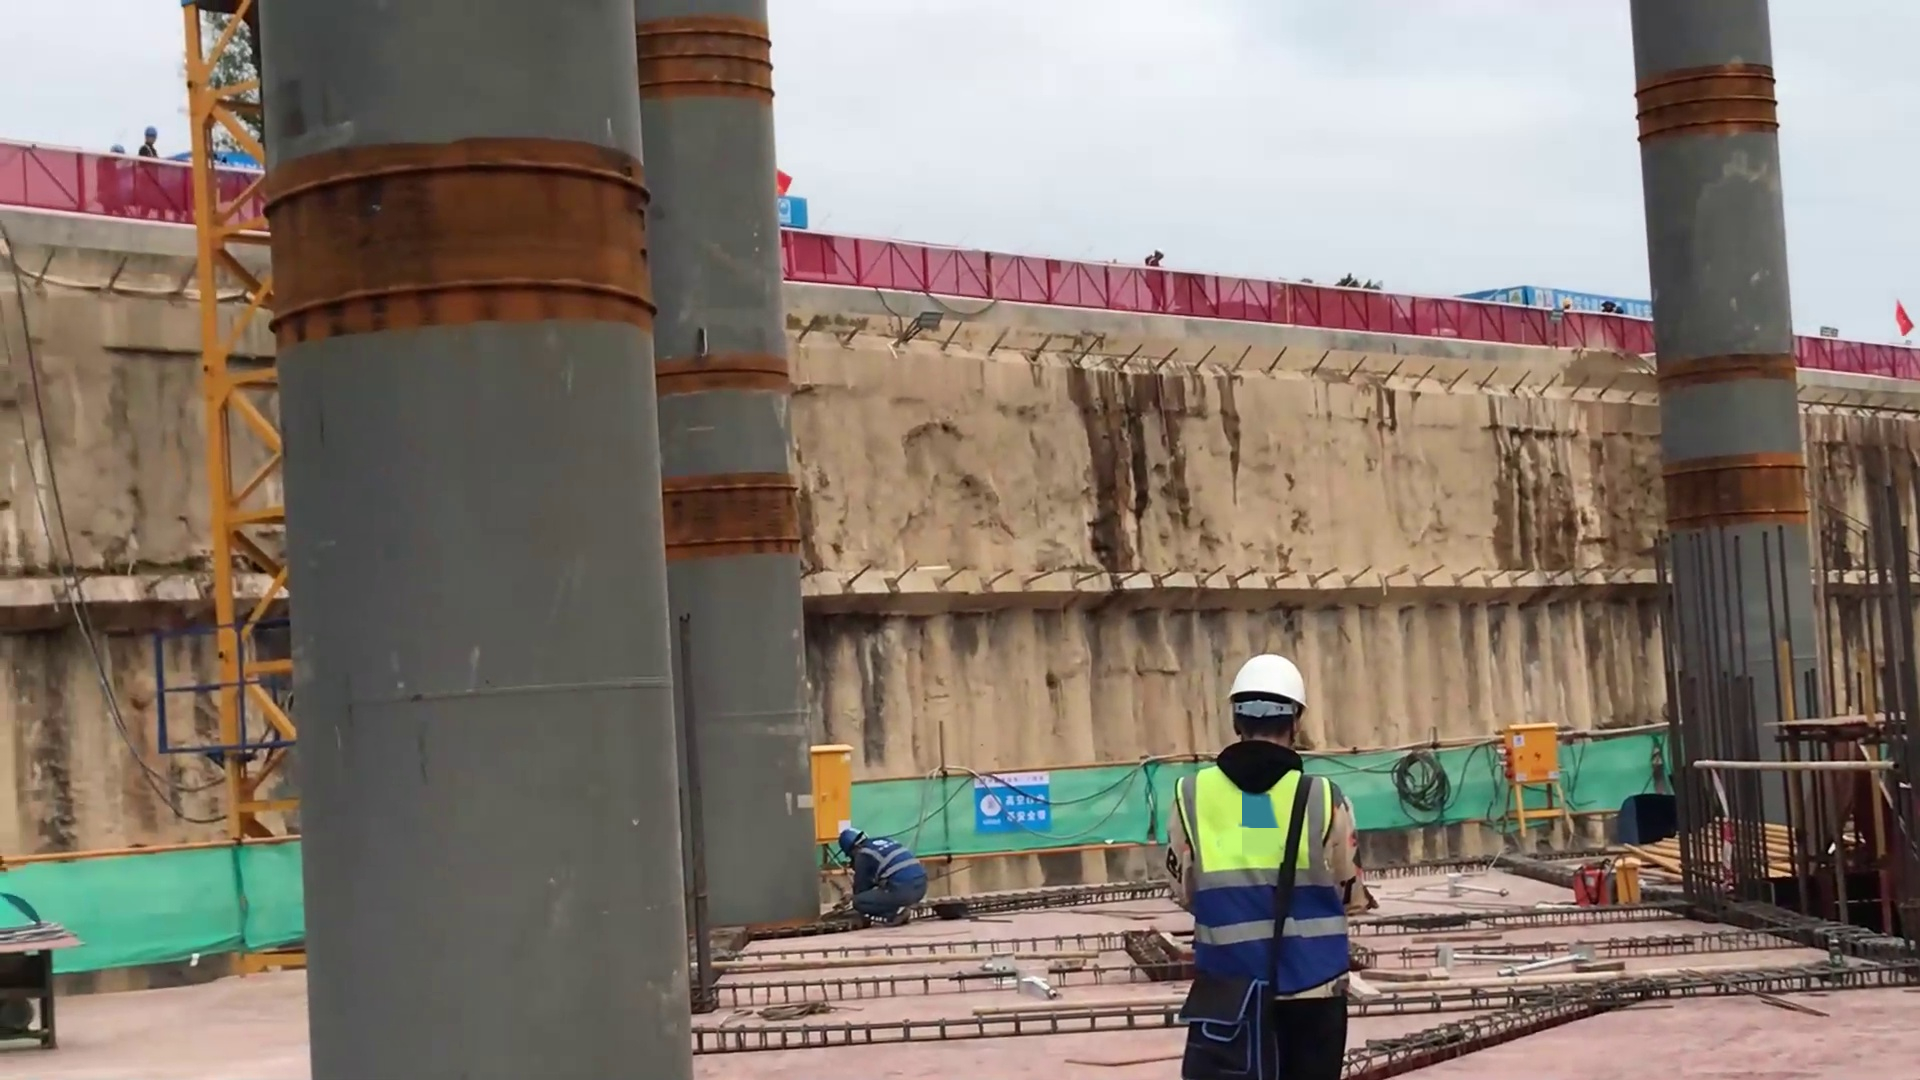ebox: (1497, 718, 1580, 834), (803, 735, 858, 845)
helmet: (1219, 651, 1311, 708)
person: (1161, 650, 1362, 1080), (831, 822, 930, 923)
vest: (1170, 751, 1354, 1007), (852, 829, 926, 896)
